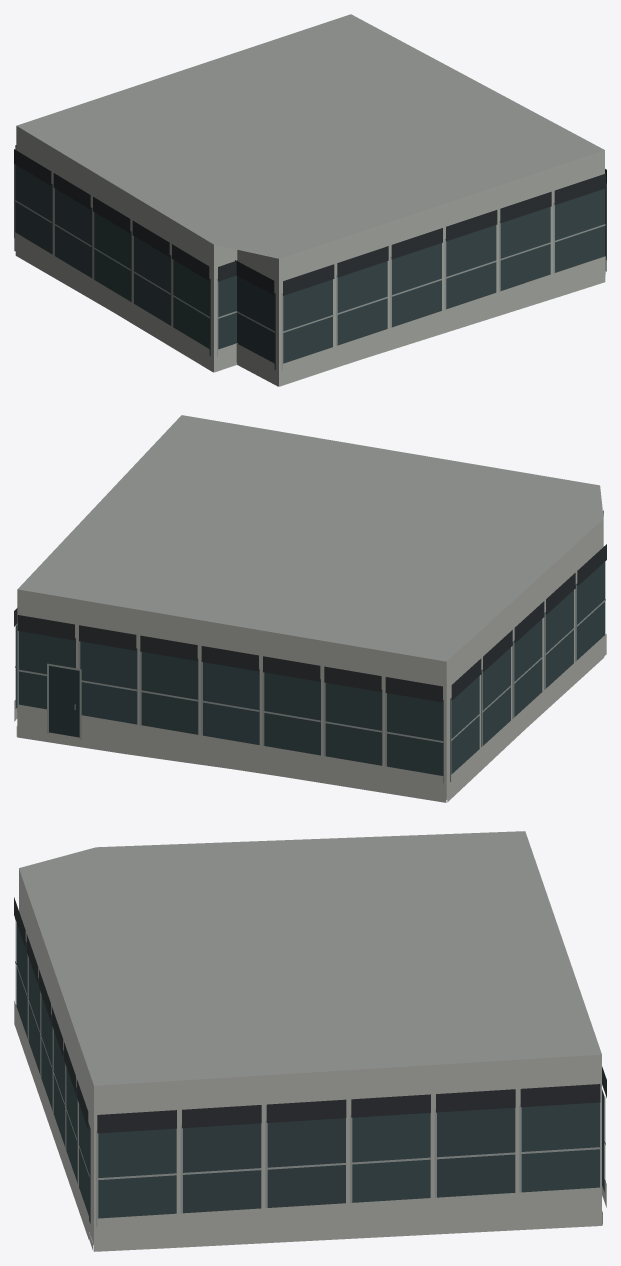
Rendered from plaza-kiosk.glb.
3 views of the same model, one above another, from view 1: azimuth 30°, elevation 25°; view 2: azimuth 150°, elevation 25°; view 3: azimuth 270°, elevation 25° (orthographic). The views are drawn at different scales.
Visible parts, largest first — view 1: plaza-kiosk_roof, plaza-kiosk_glass2, plaza-kiosk_wall, plaza-kiosk_spandrel, plaza-kiosk_sign_housing, plaza-kiosk_glass1, plaza-kiosk_glass0, plaza-kiosk_frame; view 2: plaza-kiosk_roof, plaza-kiosk_wall, plaza-kiosk_glass0, plaza-kiosk_glass1, plaza-kiosk_spandrel, plaza-kiosk_sign_housing, plaza-kiosk_glass2, plaza-kiosk_frame, plaza-kiosk_shop_glass; view 3: plaza-kiosk_roof, plaza-kiosk_wall, plaza-kiosk_glass0, plaza-kiosk_glass2, plaza-kiosk_spandrel, plaza-kiosk_sign_housing, plaza-kiosk_glass1, plaza-kiosk_frame.
Boxes of the visible parts, <box> form: plaza-kiosk_roof: <box>17,14,604,258</box>; plaza-kiosk_glass2: <box>15,164,604,345</box>; plaza-kiosk_wall: <box>15,126,605,386</box>; plaza-kiosk_spandrel: <box>14,232,606,382</box>; plaza-kiosk_sign_housing: <box>14,145,606,295</box>; plaza-kiosk_glass1: <box>94,188,605,363</box>; plaza-kiosk_glass0: <box>217,275,275,369</box>; plaza-kiosk_frame: <box>14,164,606,370</box>; plaza-kiosk_roof: <box>18,415,603,661</box>; plaza-kiosk_wall: <box>16,519,604,802</box>; plaza-kiosk_glass0: <box>19,631,443,782</box>; plaza-kiosk_glass1: <box>80,562,605,744</box>; plaza-kiosk_spandrel: <box>14,634,606,796</box>; plaza-kiosk_sign_housing: <box>14,510,606,702</box>; plaza-kiosk_glass2: <box>15,590,573,781</box>; plaza-kiosk_frame: <box>15,585,605,782</box>; plaza-kiosk_shop_glass: <box>49,665,79,737</box>; plaza-kiosk_roof: <box>19,831,601,1085</box>; plaza-kiosk_wall: <box>19,869,602,1251</box>; plaza-kiosk_glass0: <box>181,1089,604,1213</box>; plaza-kiosk_glass2: <box>28,958,599,1223</box>; plaza-kiosk_spandrel: <box>14,1001,606,1242</box>; plaza-kiosk_sign_housing: <box>14,897,606,1133</box>; plaza-kiosk_glass1: <box>16,922,176,1218</box>; plaza-kiosk_frame: <box>15,918,605,1227</box>.
Bounding box in the file's own units: 15.01 × 4.62 × 14.53.
